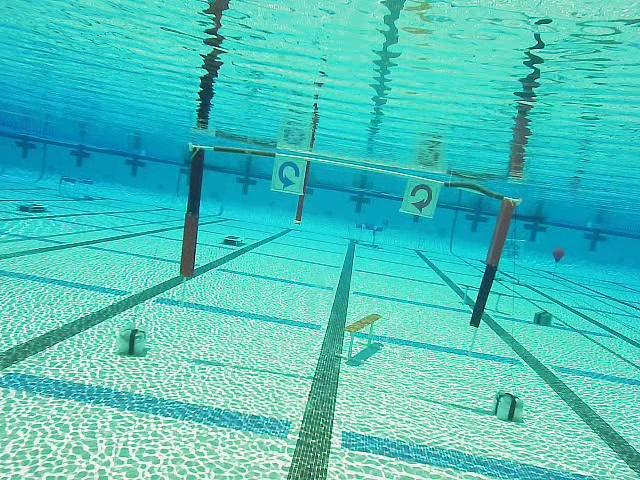buoy: (553, 248, 566, 265)
dropper: (18, 200, 48, 215), (221, 232, 244, 247)
gate: (180, 145, 518, 328)
gate_blue: (271, 156, 307, 195)
gate_leg_l: (181, 146, 207, 277)
gate_leg_r: (469, 199, 518, 328)
gate_red: (401, 178, 440, 218)
table: (56, 173, 98, 202), (354, 222, 383, 249)
